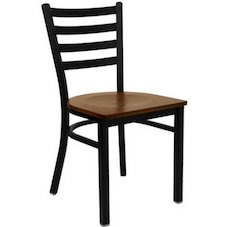chair: (5, 0, 189, 215)
